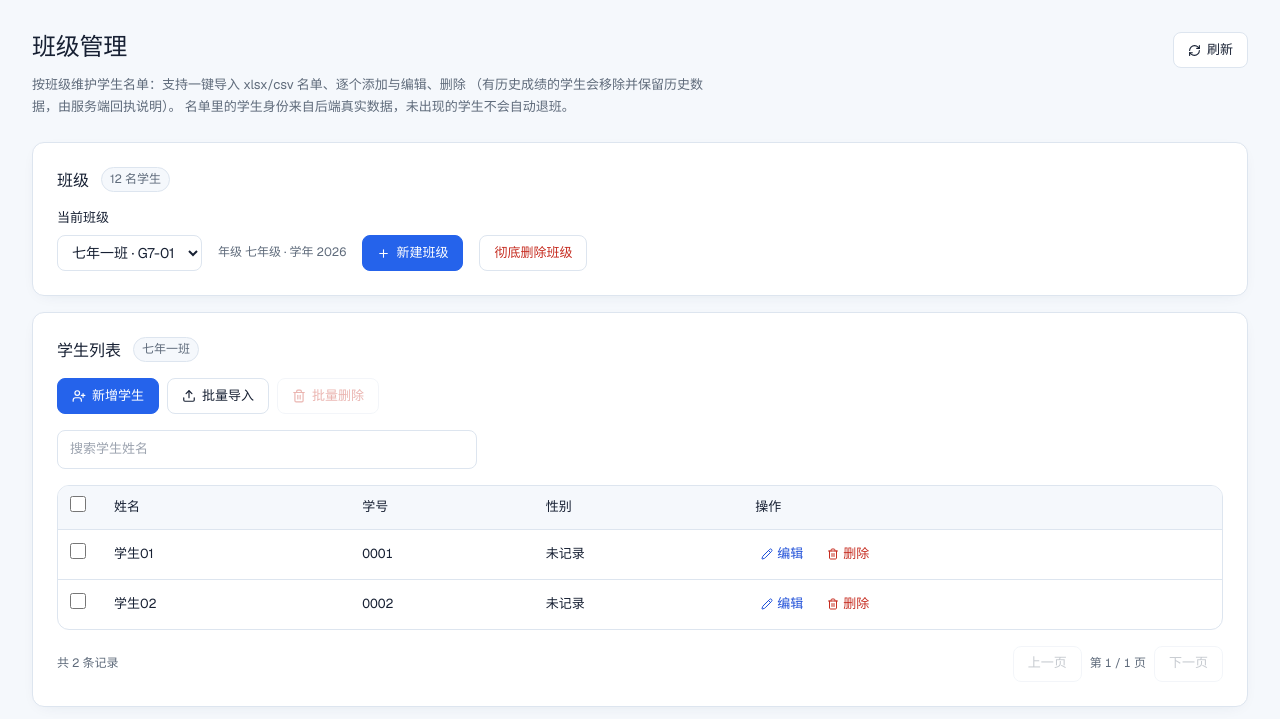
it: 班级管理页：删除学生（DELETE 回执两模式，R10-FE） › 失败（409 REVISION_CONFLICT）：原样展示错误码与 message，不伪装成成功
Expected: the text "学生02" is shown, [114,595,157,612]
Click the button with test id "assessments-student-delete-st-2": point(848, 604) [821,590,875,619]
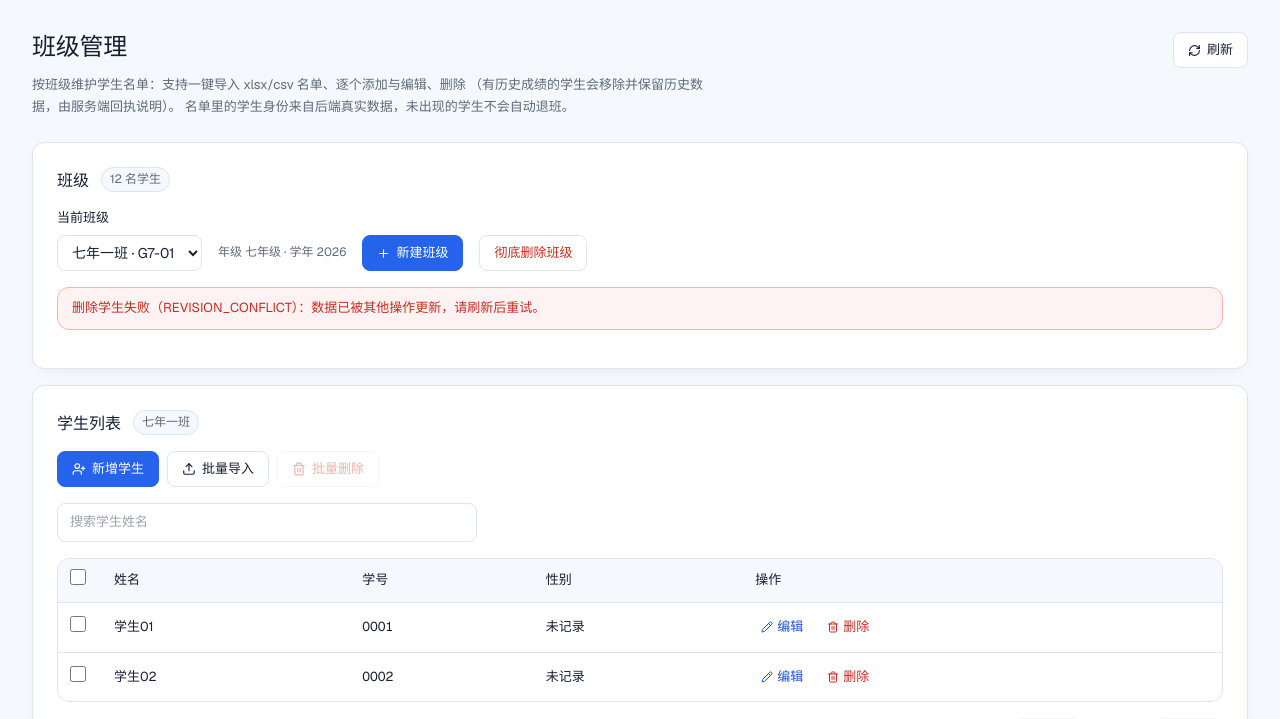
Expected: the text "学生02" is shown, [114,668,157,684]
Now the message with test id "assessments-roster-write-error" reads "删除学生失败（REVISION_CONFLICT）：数据已被其他操作更新，请刷新后重试。", box [72,299,545,316]
